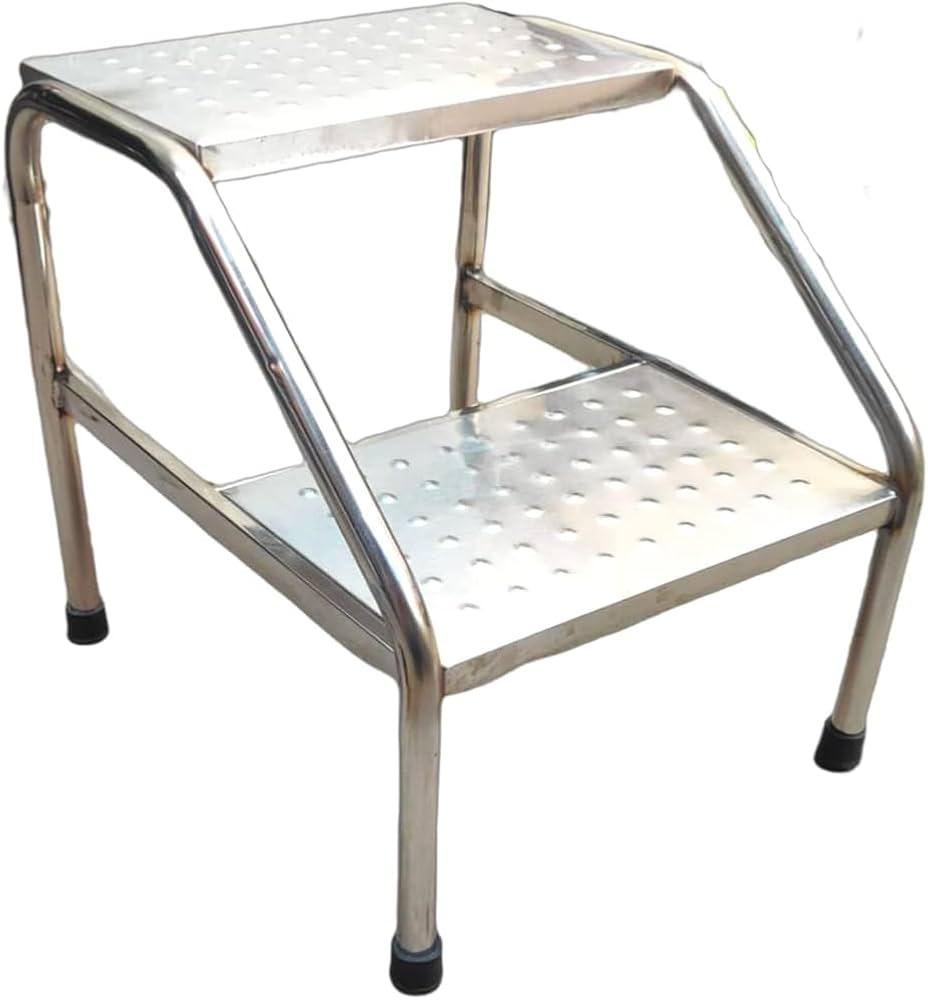stool: (8, 1, 925, 996)
